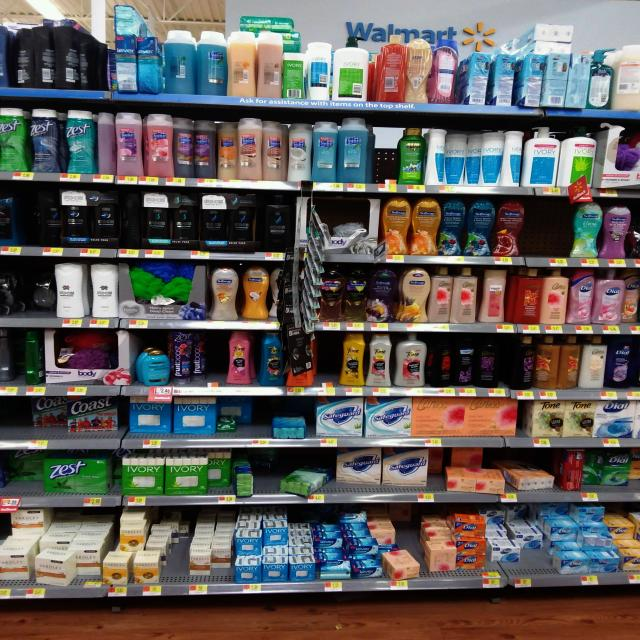empty_space: (524, 207, 566, 251), (373, 126, 399, 174), (326, 338, 342, 382), (169, 539, 187, 577), (7, 404, 25, 436)
